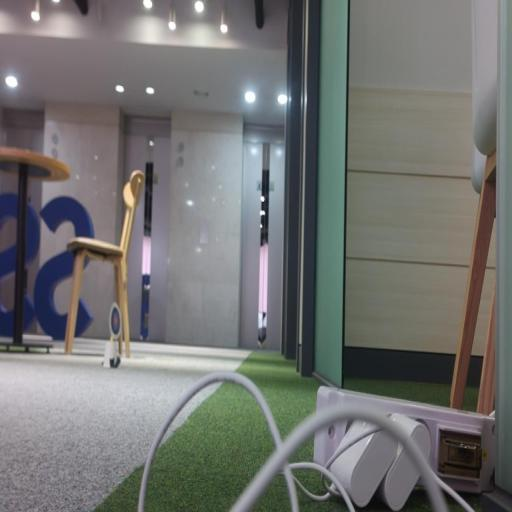target: (109, 302, 121, 340)
